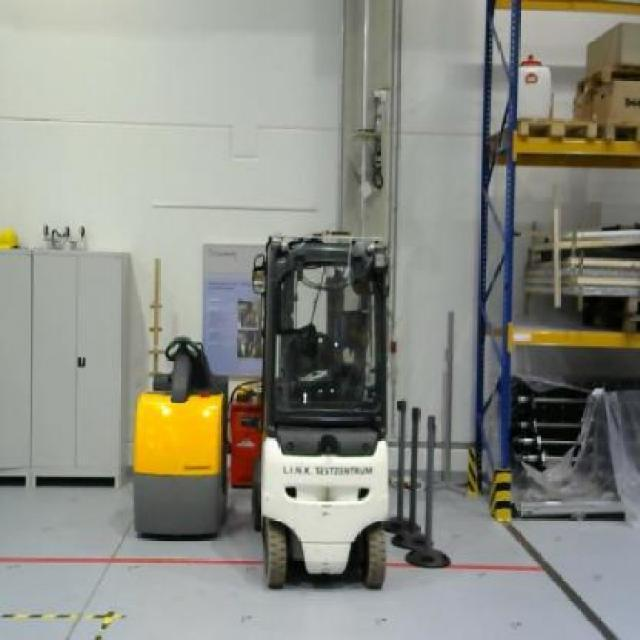box: (568, 77, 640, 123), (586, 20, 640, 76)
